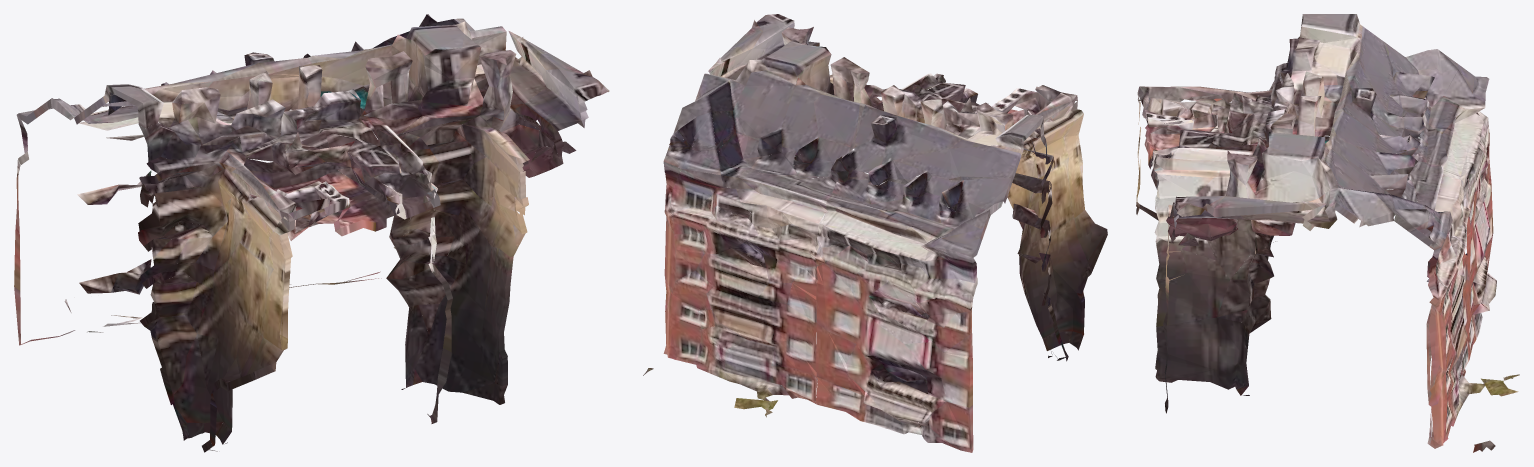
3 renders of one model, left to right at view 1: azimuth 30°, elevation 25°; view 2: azimuth 150°, elevation 25°; view 3: azimuth 270°, elevation 25°, orthographic. The views are drawn at different scales.
Visible parts, largest first — view 1: Mesh_0; view 2: Mesh_0; view 3: Mesh_0.
Part boxes in pixels (bbox=[...]): Mesh_0: bbox=[14, 14, 609, 452]; Mesh_0: bbox=[643, 14, 1107, 452]; Mesh_0: bbox=[1136, 14, 1519, 452].
Size of the model in its own units: 32.06 by 23.49 by 28.9.
2 materials, 2 textured.
